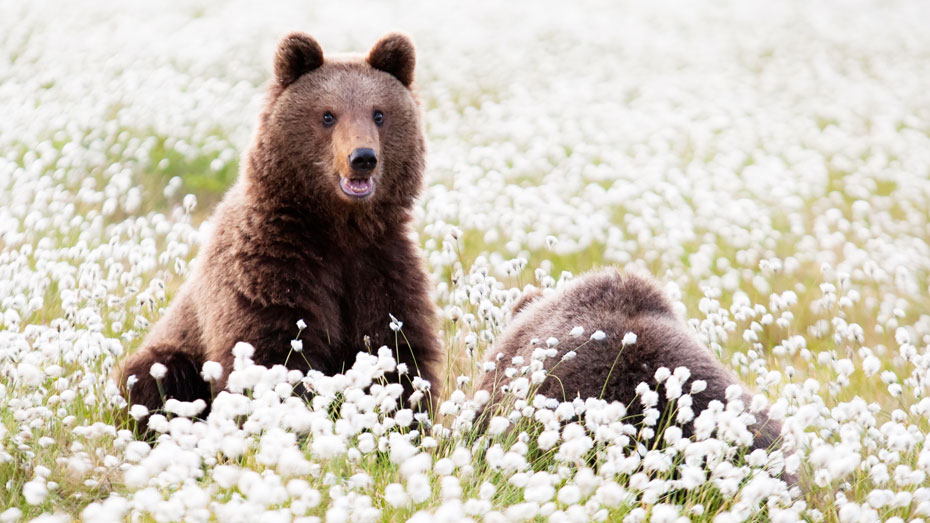bear: (261, 28, 428, 203)
